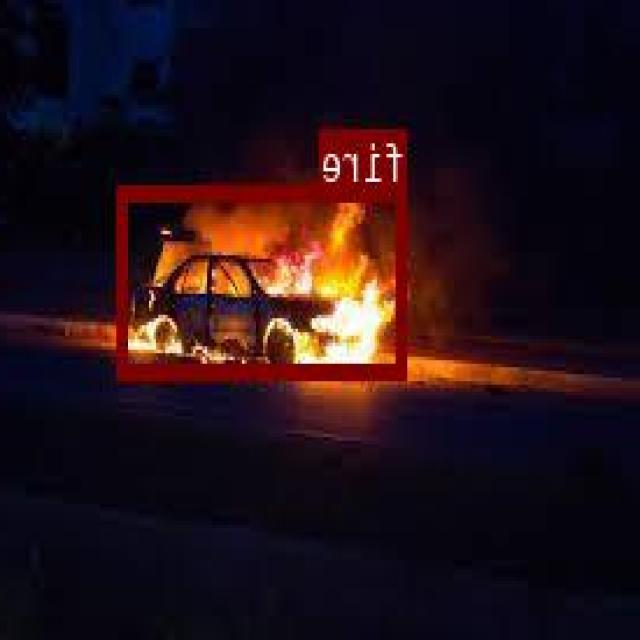fire: (121, 182, 408, 374)
